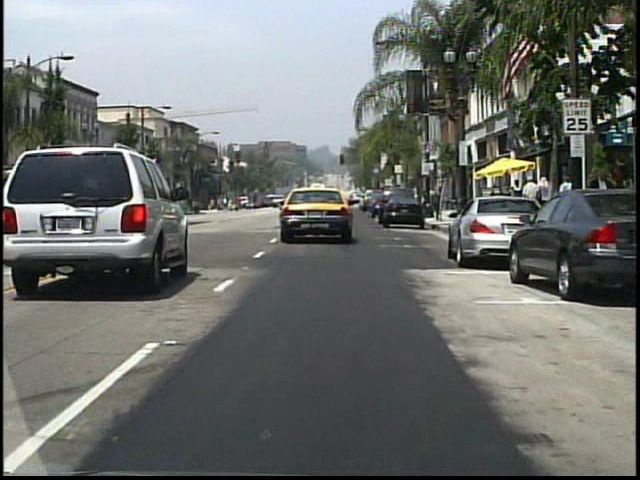person: (589, 164, 615, 239), (522, 174, 542, 225), (537, 175, 555, 221), (559, 173, 575, 219), (510, 178, 525, 219), (253, 192, 261, 208)
